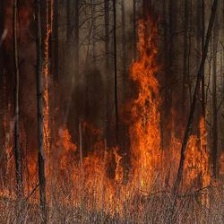fire: (41, 135, 213, 197), (131, 22, 162, 135), (44, 36, 50, 135)
smoke: (67, 25, 120, 128)
